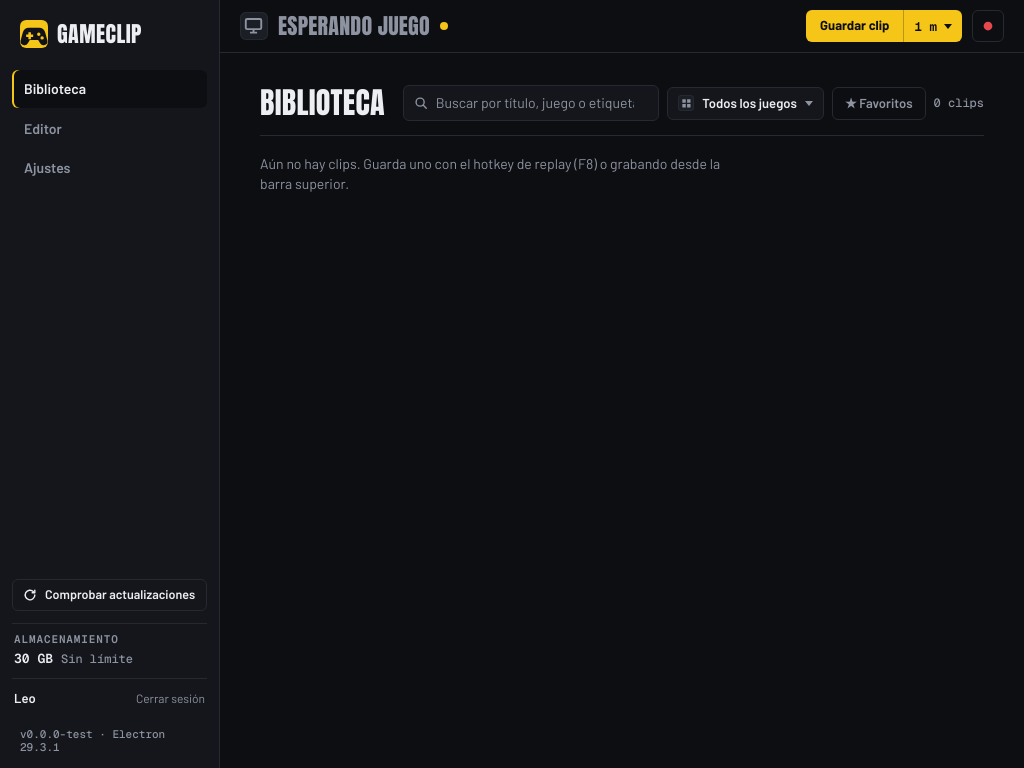
Test: Ajustes — Grabación › guarda los toggles de cambio de juego y capturas de pantalla
The width and height of the screenshot is (1024, 768).
Click the link "Ajustes".
click(47, 168)  # box x1=24 y1=159 x2=70 y2=176
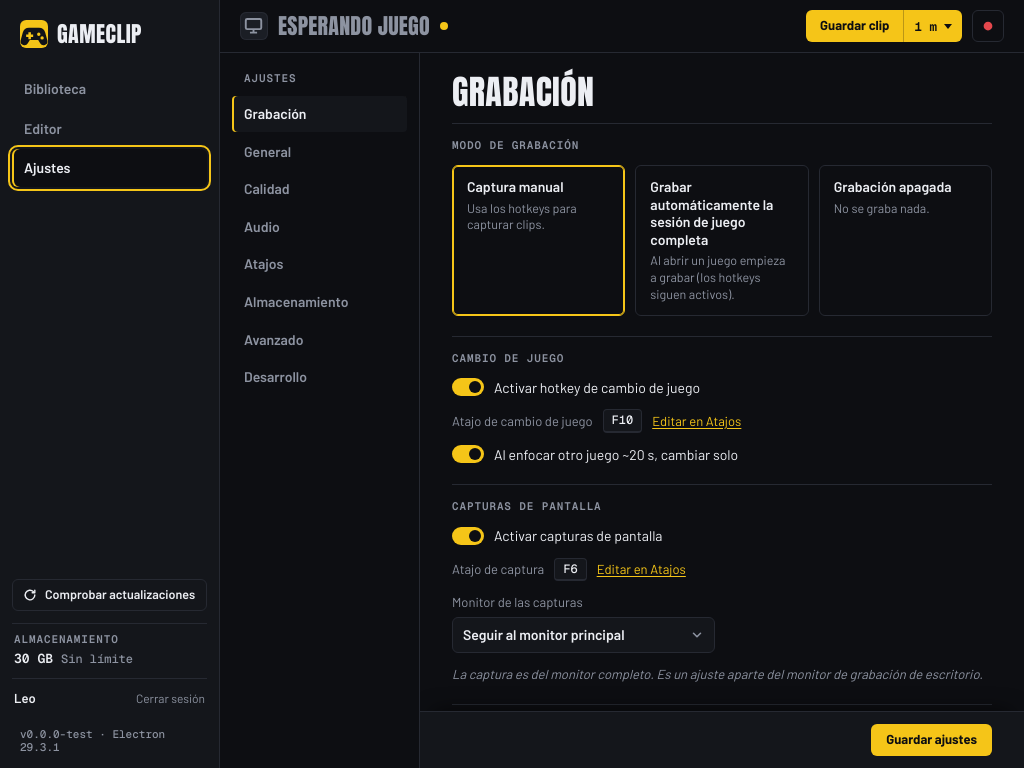
Click the checkbox labelled "Activar hotkey de cambio de juego".
click(468, 387)  # box x1=452 y1=378 x2=484 y2=396
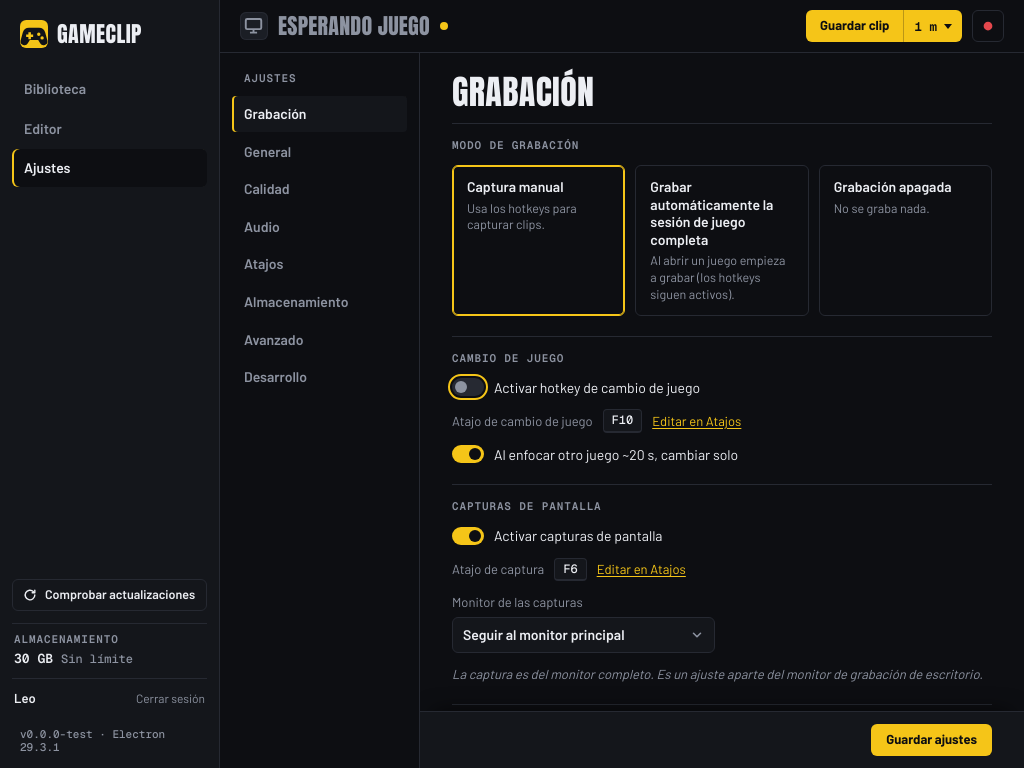
Click the checkbox labelled "Al enfocar otro juego ~20 s, cambiar solo".
click(468, 454)  # box x1=452 y1=445 x2=484 y2=463
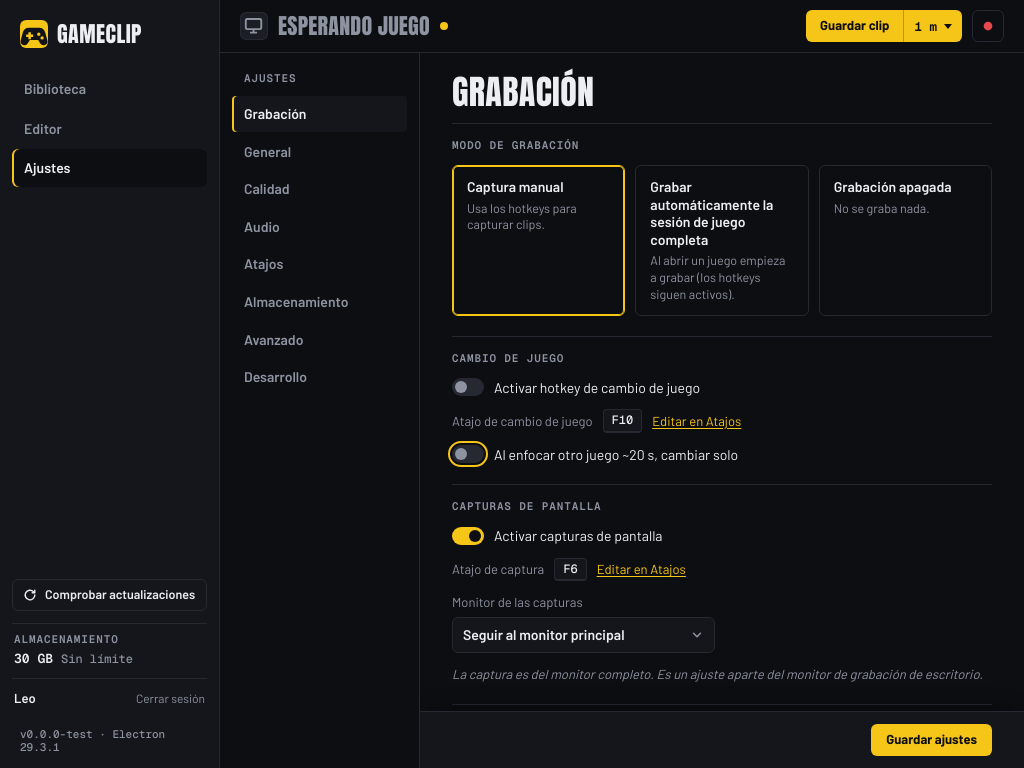
Click the checkbox labelled "Activar capturas de pantalla".
click(468, 536)  # box x1=452 y1=527 x2=484 y2=545
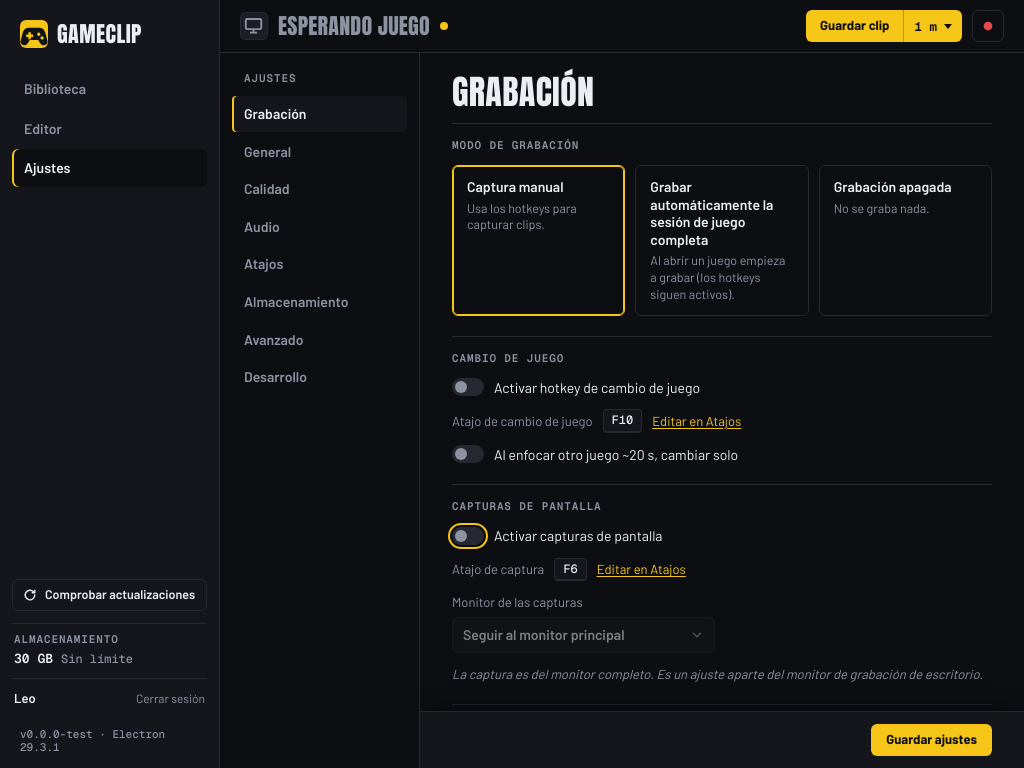
Click the button "Guardar ajustes".
click(932, 740)  # box x1=871 y1=724 x2=992 y2=756
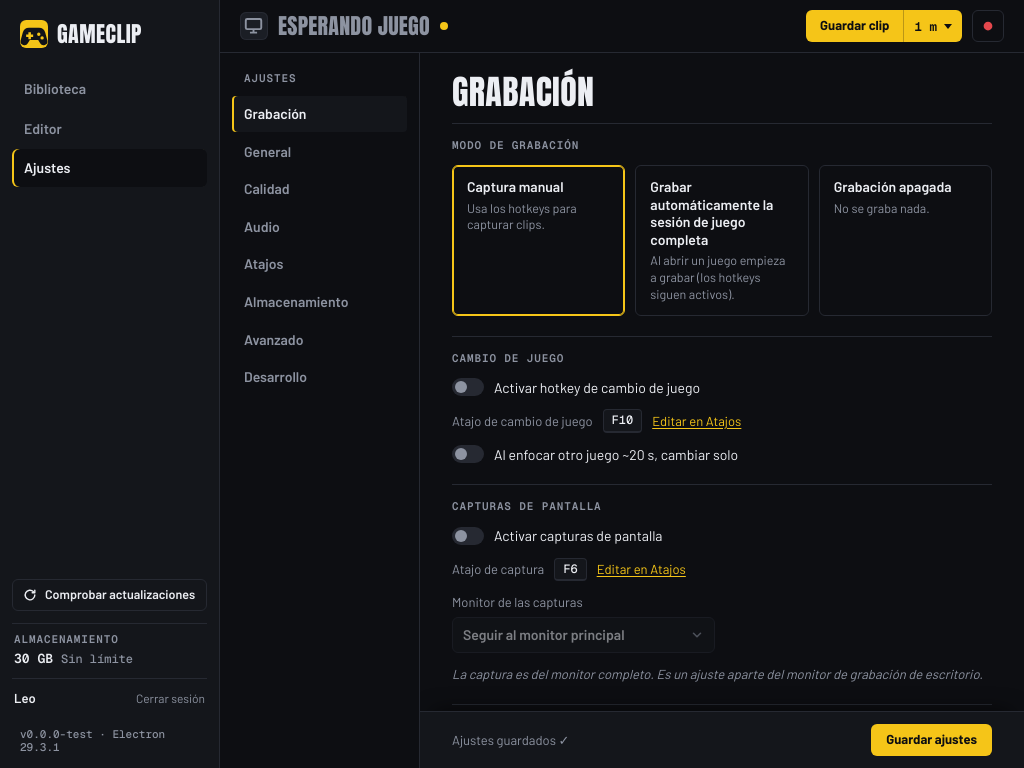
expect the text "Ajustes guardados ✓" is shown: met, box x1=452 y1=732 x2=569 y2=748
